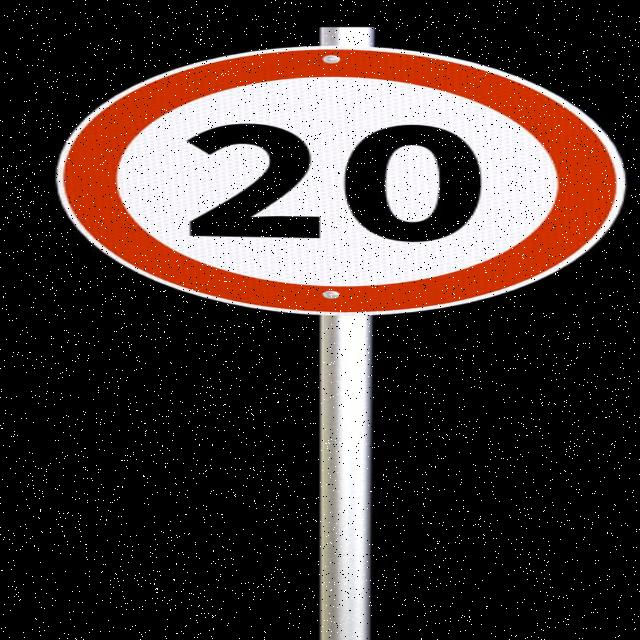speedlimit_20: (66, 50, 629, 318)
